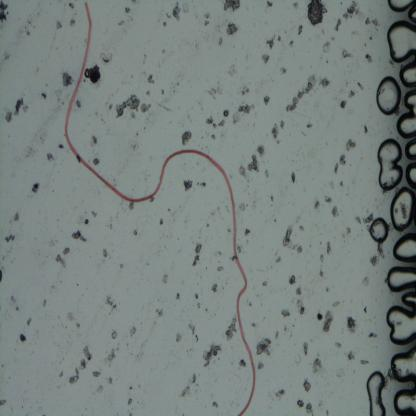Air bubble: (387, 291, 416, 346), (376, 138, 404, 193), (387, 21, 416, 63), (375, 74, 402, 117), (390, 188, 416, 232), (390, 346, 416, 385), (366, 371, 388, 415), (397, 89, 416, 137), (387, 265, 416, 292), (392, 233, 416, 264), (393, 385, 416, 415), (370, 217, 390, 244), (397, 62, 416, 88), (386, 0, 416, 14), (405, 161, 416, 186), (405, 138, 416, 159), (408, 5, 416, 21)
Background material: (286, 74, 318, 112), (282, 224, 305, 254), (114, 92, 140, 118), (306, 1, 329, 28), (232, 101, 256, 124), (342, 0, 366, 23), (203, 340, 221, 369), (368, 243, 386, 268), (180, 373, 198, 398), (317, 307, 333, 334), (172, 0, 189, 25), (18, 14, 39, 34), (256, 335, 274, 358), (84, 64, 102, 86), (224, 314, 238, 342), (78, 344, 92, 371), (13, 97, 29, 116), (296, 287, 306, 316), (207, 84, 226, 99), (269, 124, 282, 145), (345, 314, 358, 335), (297, 398, 314, 414), (275, 61, 290, 79), (106, 297, 120, 316), (69, 230, 88, 244), (204, 116, 226, 128), (104, 347, 116, 368), (180, 129, 194, 147), (247, 154, 260, 173), (340, 46, 356, 61), (0, 0, 10, 23), (223, 0, 242, 12), (68, 367, 80, 386), (193, 241, 202, 266), (180, 176, 194, 192), (362, 16, 380, 28), (154, 301, 166, 319), (356, 212, 374, 224), (100, 50, 114, 65), (192, 288, 202, 309), (318, 74, 333, 88), (62, 71, 74, 88), (310, 357, 322, 374), (238, 83, 250, 99), (54, 254, 66, 270), (226, 21, 238, 36), (264, 35, 276, 50), (300, 340, 310, 358), (280, 306, 292, 320), (346, 137, 357, 152), (274, 385, 285, 400), (255, 144, 266, 158), (146, 72, 157, 86), (321, 39, 331, 54), (364, 50, 374, 65), (88, 133, 98, 148), (195, 179, 208, 190), (100, 246, 110, 260), (332, 19, 342, 33), (330, 204, 340, 218), (361, 273, 371, 287), (340, 226, 350, 240), (331, 296, 342, 308), (262, 93, 272, 106), (4, 233, 17, 243), (287, 273, 297, 286), (302, 380, 312, 393), (5, 110, 13, 126), (348, 347, 356, 363), (243, 222, 251, 238), (261, 52, 270, 66), (238, 164, 247, 178), (46, 150, 56, 162), (30, 182, 40, 194), (141, 101, 151, 113), (338, 98, 348, 110), (313, 197, 321, 212), (54, 85, 61, 102), (204, 10, 210, 29), (332, 161, 340, 175), (339, 154, 347, 168), (260, 276, 270, 287), (129, 327, 139, 338), (214, 264, 225, 274), (188, 322, 197, 334), (238, 358, 248, 368), (368, 330, 378, 340), (347, 89, 357, 99), (12, 211, 21, 222), (210, 282, 219, 293), (56, 18, 63, 32), (290, 170, 297, 184), (68, 0, 75, 13), (297, 23, 304, 36), (161, 273, 168, 286), (18, 333, 27, 343), (96, 383, 104, 394), (0, 266, 5, 283), (223, 108, 230, 120), (0, 396, 7, 408), (325, 193, 332, 205), (326, 242, 332, 256), (62, 249, 71, 258), (272, 255, 281, 264), (40, 297, 49, 306), (92, 370, 102, 378), (69, 18, 77, 28), (92, 156, 100, 166), (110, 331, 118, 341), (356, 82, 366, 90), (288, 38, 298, 46), (175, 333, 182, 344), (279, 119, 286, 130), (40, 93, 48, 102), (266, 1, 274, 10), (363, 123, 369, 135), (116, 19, 125, 27), (26, 316, 33, 326), (360, 358, 370, 365), (335, 340, 342, 350), (77, 100, 84, 110), (125, 5, 131, 16), (91, 209, 98, 218), (363, 304, 369, 314), (218, 36, 223, 48), (209, 134, 216, 142), (106, 377, 113, 385), (83, 219, 90, 227), (58, 370, 64, 378), (58, 144, 65, 150), (158, 219, 164, 226), (132, 229, 138, 235), (128, 398, 134, 404), (318, 273, 325, 278), (176, 292, 180, 300), (321, 253, 324, 262)
Microfibre: (65, 1, 256, 415)
